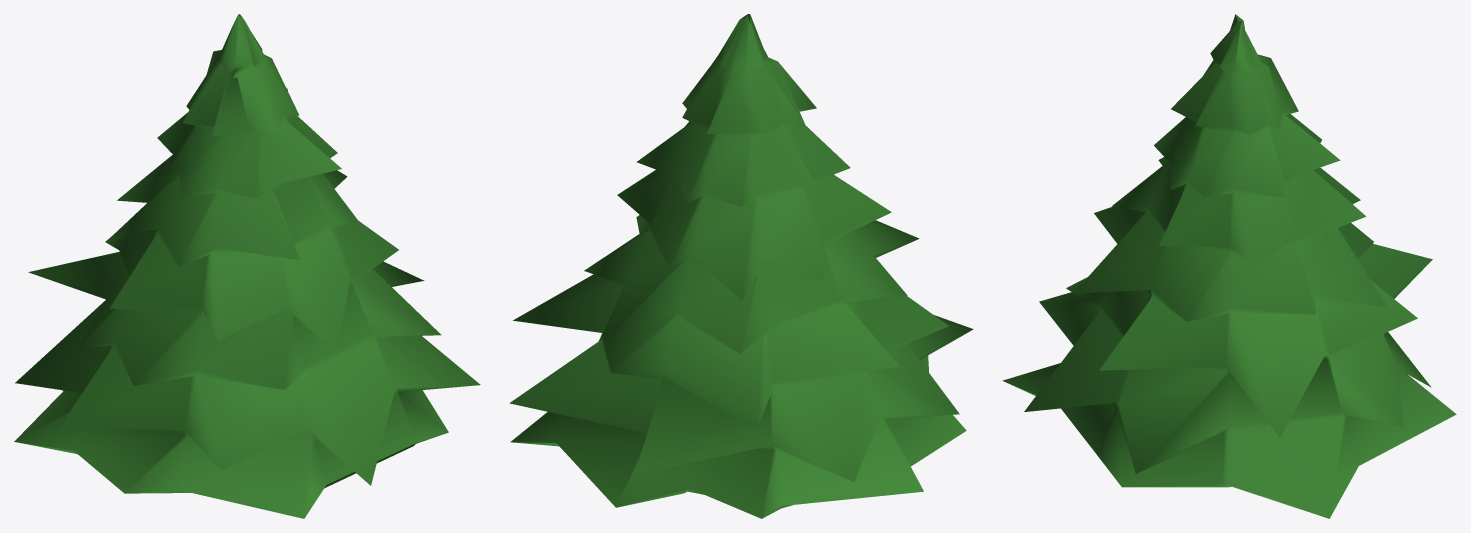
The model's file is sapin3.fbx.
3 views of the same model, side by side, from view 1: azimuth 30°, elevation 25°; view 2: azimuth 150°, elevation 25°; view 3: azimuth 270°, elevation 25° (orthographic). The views are drawn at different scales.
Parts seen in each view (by area): view 1: pCone1; view 2: pCone1; view 3: pCone1.
Boxes of the visible parts, x1,y1,x2,y2 form: pCone1: (14, 14, 480, 518); pCone1: (509, 14, 973, 518); pCone1: (1002, 14, 1456, 518).
Bounding box in the file's own units: 12.38 × 12.47 × 12.33.
